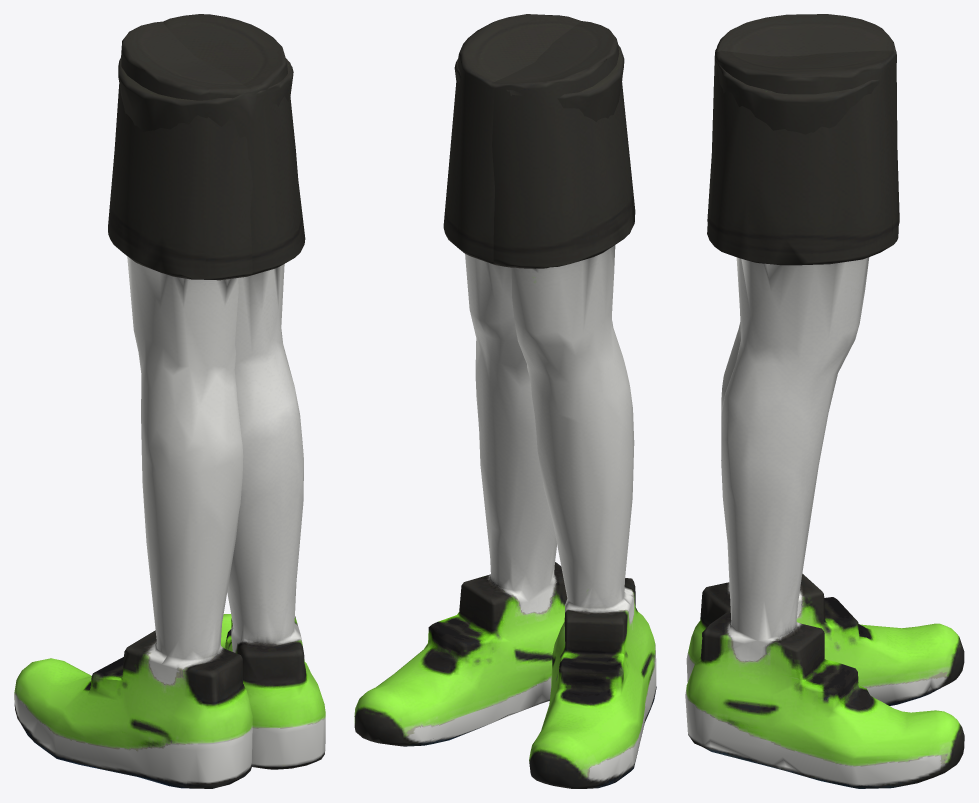
The model's file is legs-rbx1718v3.glb.
3 renders of one model, left to right at view 1: azimuth 30°, elevation 25°; view 2: azimuth 150°, elevation 25°; view 3: azimuth 270°, elevation 25°, orthographic. The views are drawn at different scales.
Visible parts, largest first — view 1: thighL__whole, thighR__whole; view 2: thighL__whole, thighR__whole; view 3: thighR__whole, thighL__whole.
Boxes of the visible parts, <box> form: thighL__whole: <box>14,21,293,788</box>; thighR__whole: <box>118,14,325,769</box>; thighL__whole: <box>454,20,656,788</box>; thighR__whole: <box>354,14,624,746</box>; thighR__whole: <box>685,49,964,788</box>; thighL__whole: <box>686,14,964,705</box>.
Size of the model in its own units: 0.3153 by 0.8333 by 0.3068.
2 materials, 2 textured.
